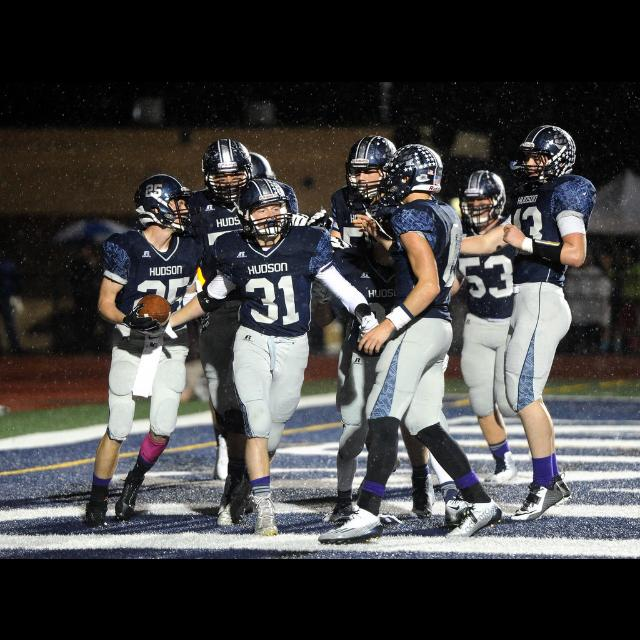Football: (132, 294, 172, 324)
